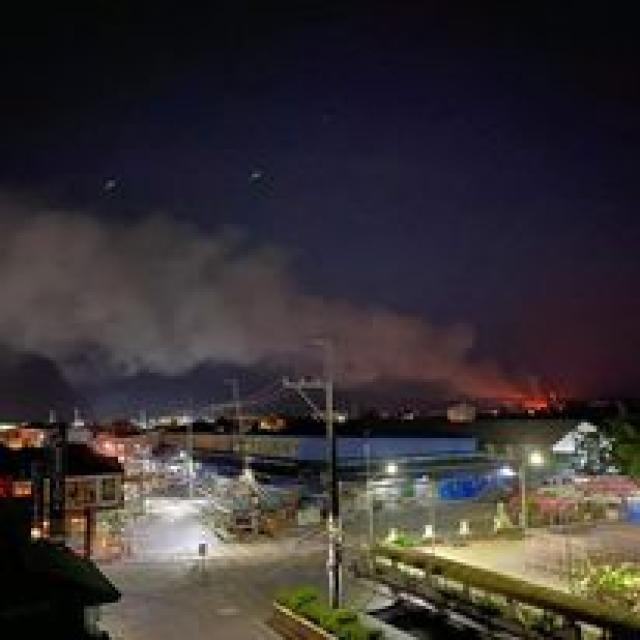Fire: (506, 380, 557, 425)
Smoke: (0, 199, 475, 402)
